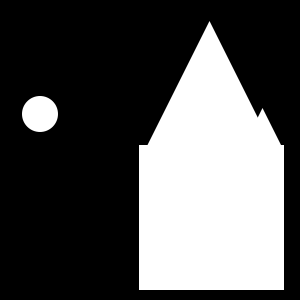circle: (139, 145, 284, 290)
rectangle: (22, 96, 58, 132)
triangle: (145, 21, 274, 150), (243, 108, 282, 147)
